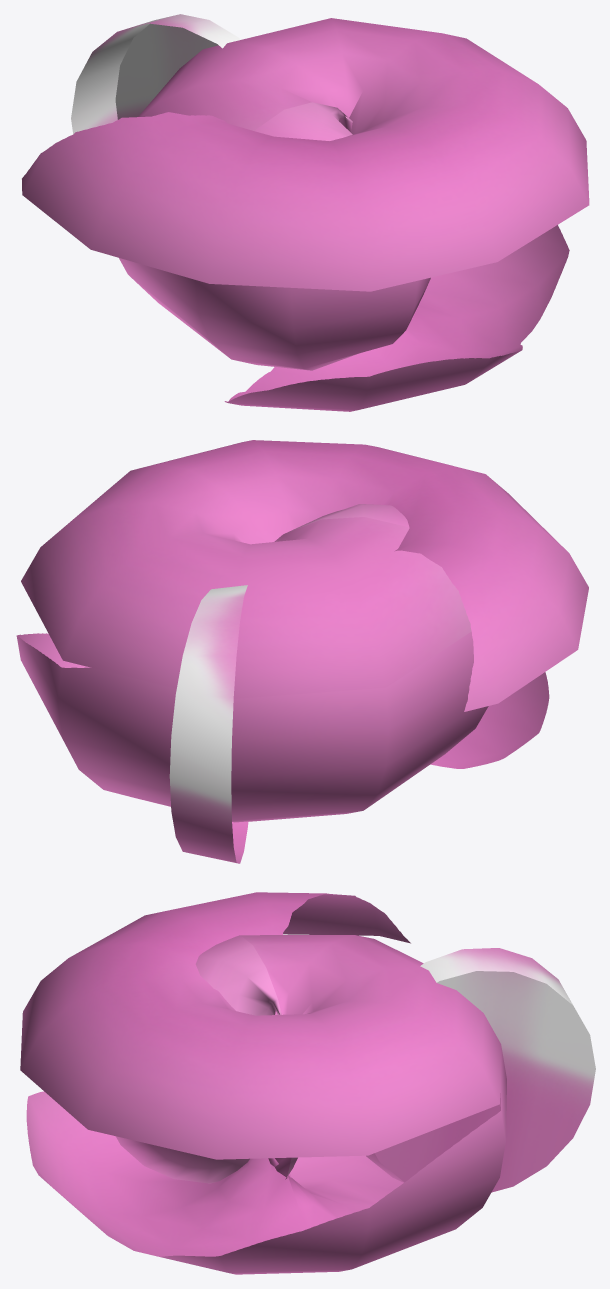
Rendered from Coquillage02.fbx.
The picture shows the model from 3 angles, top to bottom: view 1: azimuth 30°, elevation 25°; view 2: azimuth 150°, elevation 25°; view 3: azimuth 270°, elevation 25°; orthographic projection. The views are drawn at different scales.
Parts seen in each view (by area): view 1: pCylinder1; view 2: pCylinder1; view 3: pCylinder1.
Boxes of the visible parts, <box> form: pCylinder1: <box>22,14,589,411</box>; pCylinder1: <box>16,440,588,863</box>; pCylinder1: <box>20,892,595,1274</box>.
Size of the model in its own units: 0.3506 by 0.1678 by 0.373.
